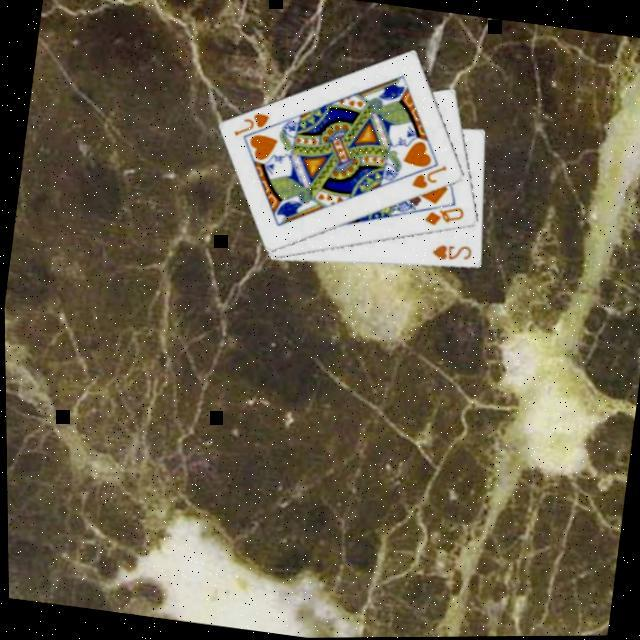2H: (426, 240, 474, 268)
JH: (406, 159, 448, 196), (228, 107, 270, 144)
QD: (418, 200, 466, 234)
